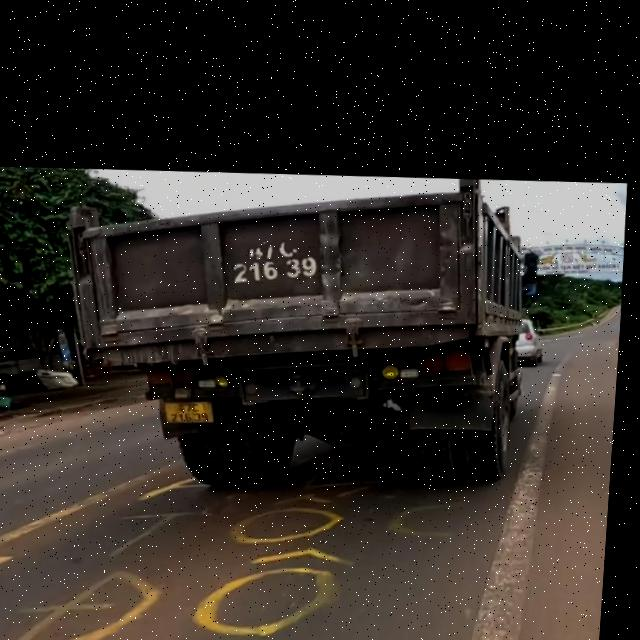car: (46, 161, 546, 514)
plate: (155, 394, 222, 430)
